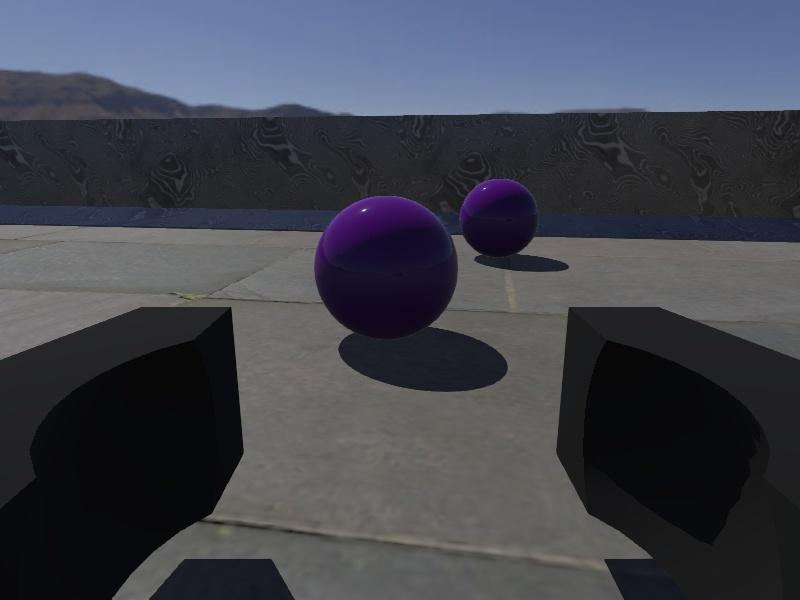violet ball: (313, 194, 459, 342), (458, 177, 540, 259)
